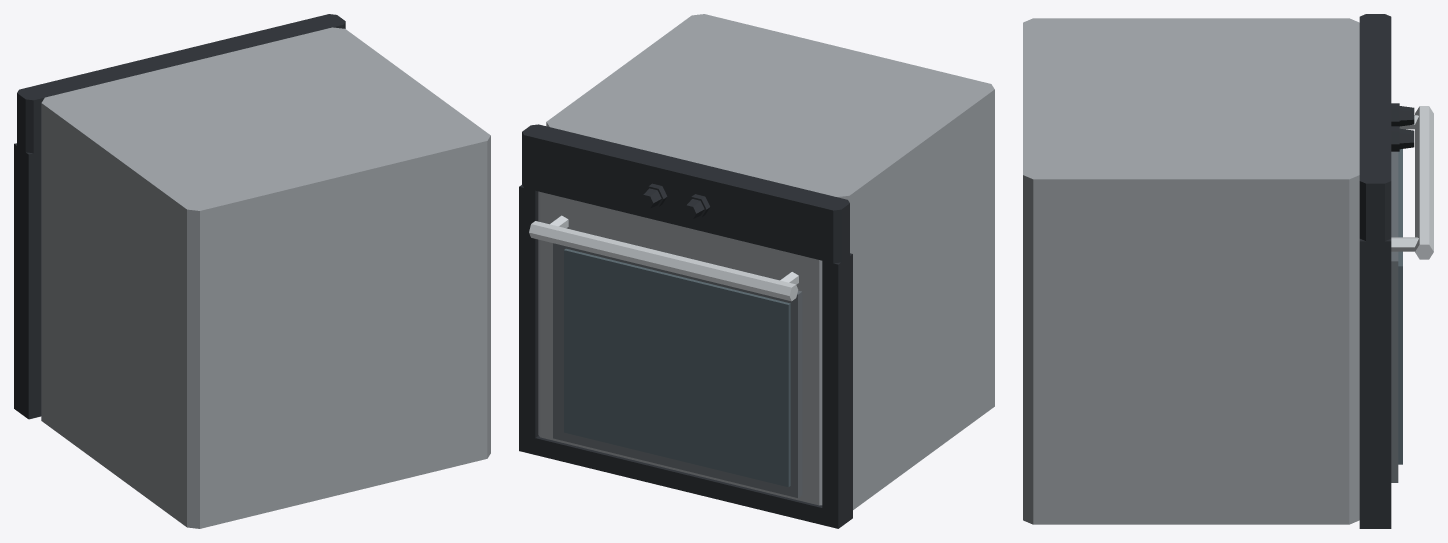
The model's file is Updated Oven.fbx.
3 renders of one model, left to right at view 1: azimuth 30°, elevation 25°; view 2: azimuth 150°, elevation 25°; view 3: azimuth 270°, elevation 25°, orthographic. The views are drawn at different scales.
Visible parts, largest first — view 1: Oven; view 2: Oven; view 3: Oven.
Boxes of the visible parts, x1,y1,x2,y2 form: Oven: (14, 14, 490, 528); Oven: (519, 14, 994, 528); Oven: (1023, 14, 1433, 528).
Size of the model in its own units: 63.2 by 60 by 64.7.
Materials: 1 (1 with a texture image).
